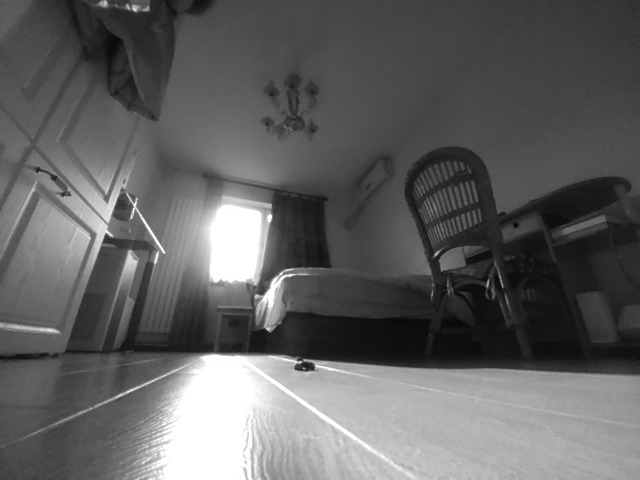curtain: (168, 174, 224, 353)
pet feces: (293, 356, 316, 372)
